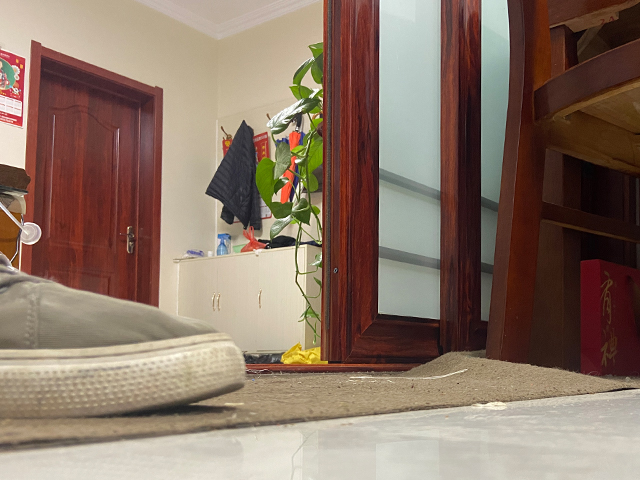cabinet: (169, 242, 324, 355)
carpet: (1, 349, 640, 454)
stool: (484, 1, 640, 364)
